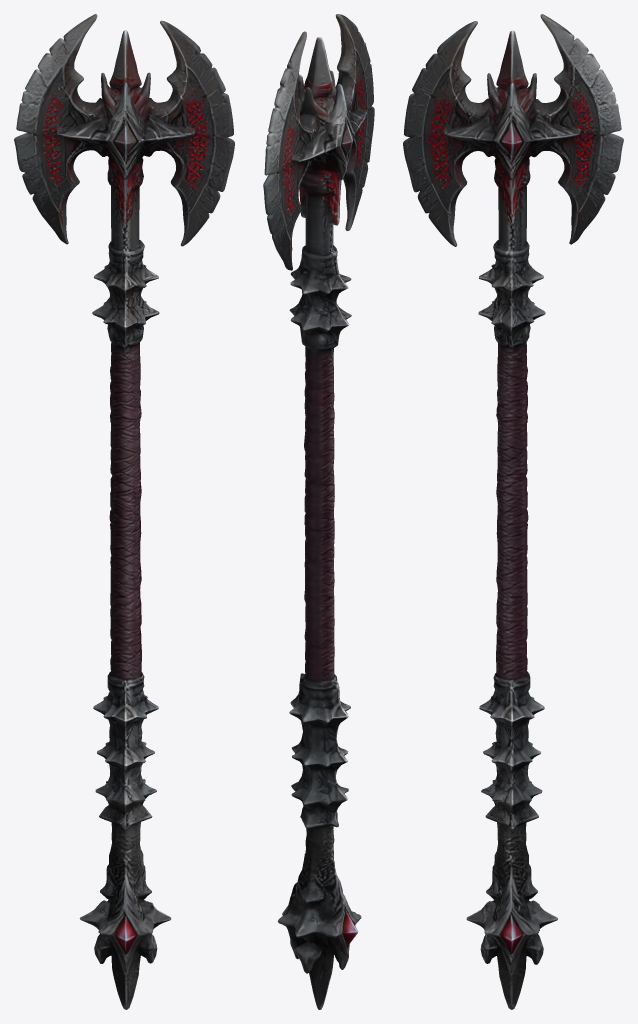
The model's file is blood_greataxe.glb.
3 renders of one model, left to right at view 1: azimuth 90°, elevation 25°; view 2: azimuth 150°, elevation 25°; view 3: azimuth 270°, elevation 25°, orthographic.
Visible parts, largest first — view 1: blood_greataxe; view 2: blood_greataxe; view 3: blood_greataxe.
Part boxes in pixels (bbox=[...]): blood_greataxe: bbox=[14, 14, 234, 1009]; blood_greataxe: bbox=[263, 14, 374, 1009]; blood_greataxe: bbox=[403, 14, 623, 1009].
Bounding box in the file's own units: 0.1125 × 1.4 × 0.2816.
1 material, 1 textured.
